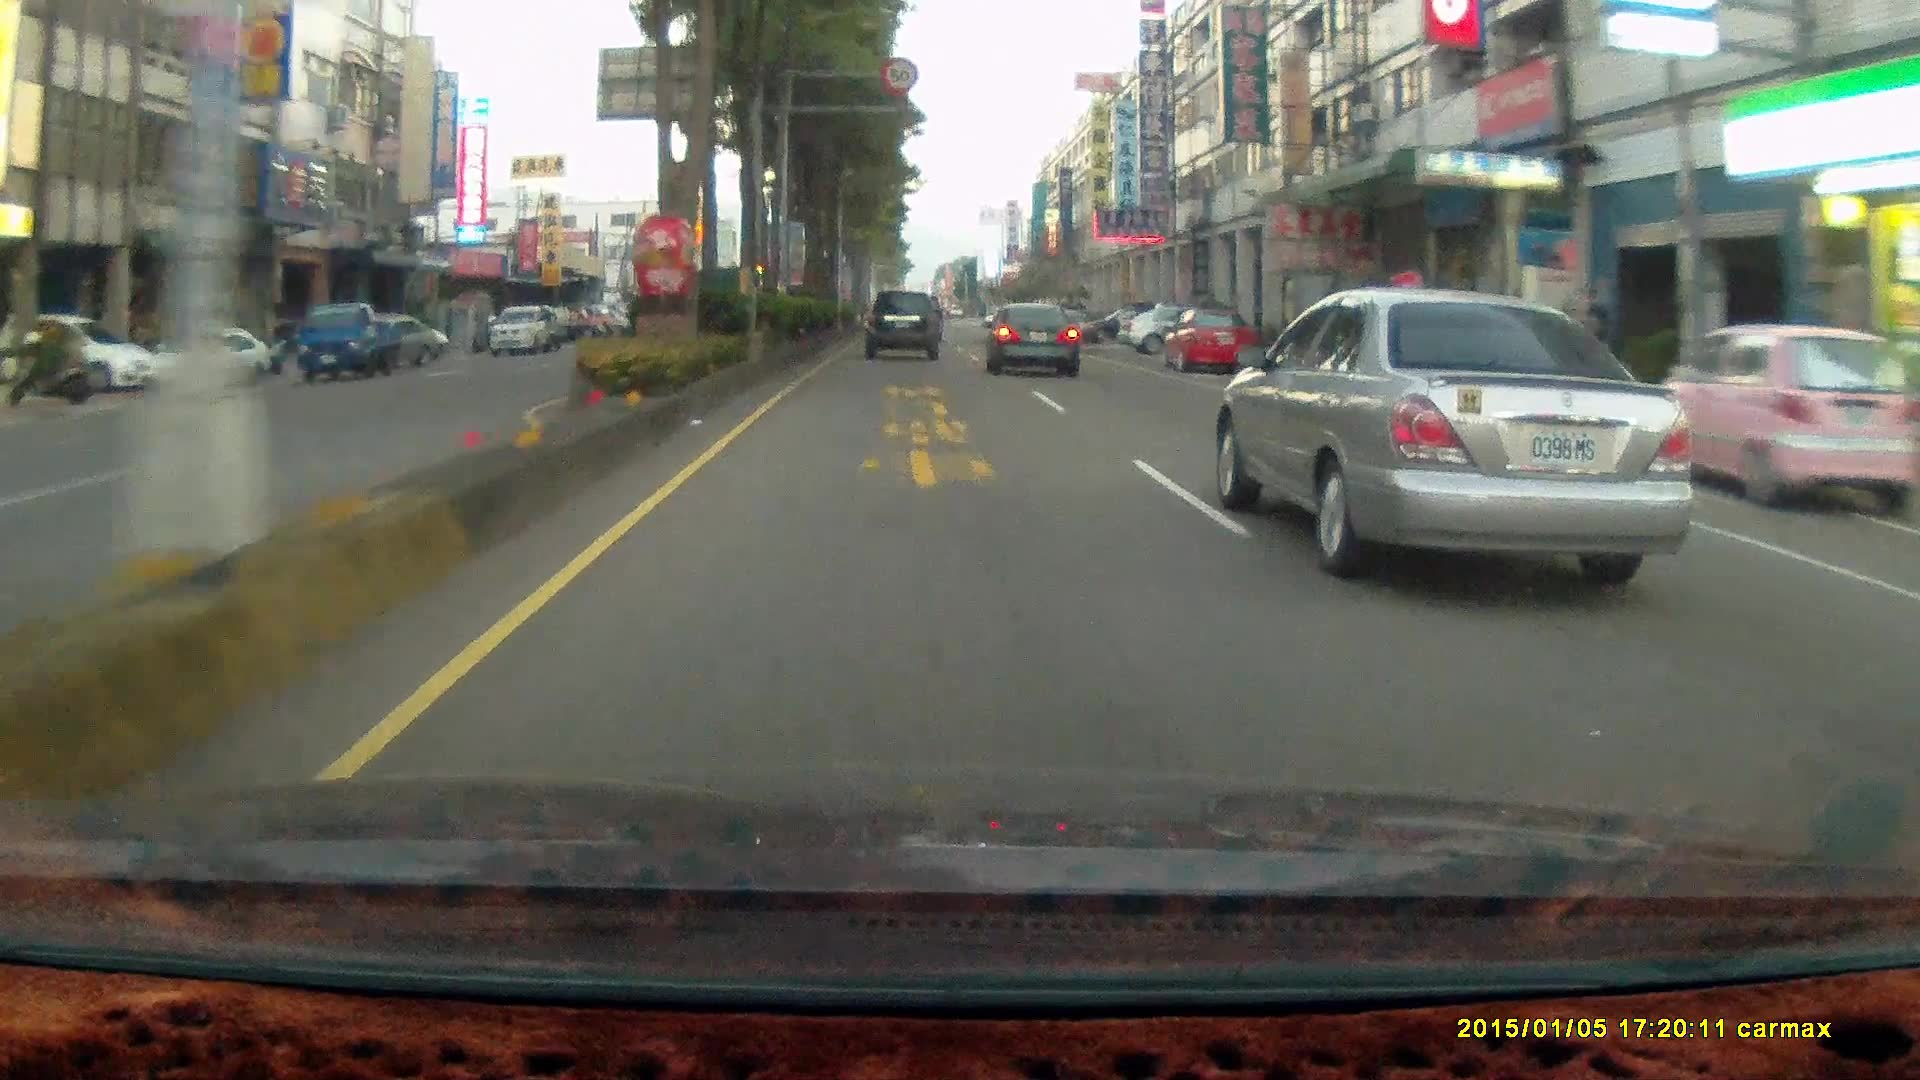vehicle: (1226, 286, 1714, 574), (1648, 324, 1902, 521), (1652, 323, 1898, 518), (1379, 295, 1577, 404), (0, 313, 154, 393), (132, 324, 272, 396), (295, 301, 418, 380), (133, 324, 270, 394), (295, 301, 400, 382), (988, 301, 1084, 378), (982, 301, 1077, 378), (1164, 307, 1255, 378), (1159, 306, 1253, 375), (866, 295, 949, 365), (1116, 295, 1230, 345), (861, 287, 940, 357), (339, 313, 436, 365), (489, 305, 555, 356), (1079, 307, 1160, 344)
